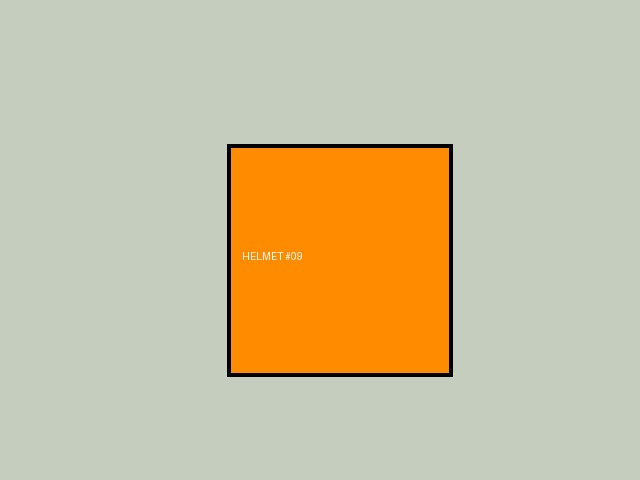helmet: (227, 144, 452, 376)
